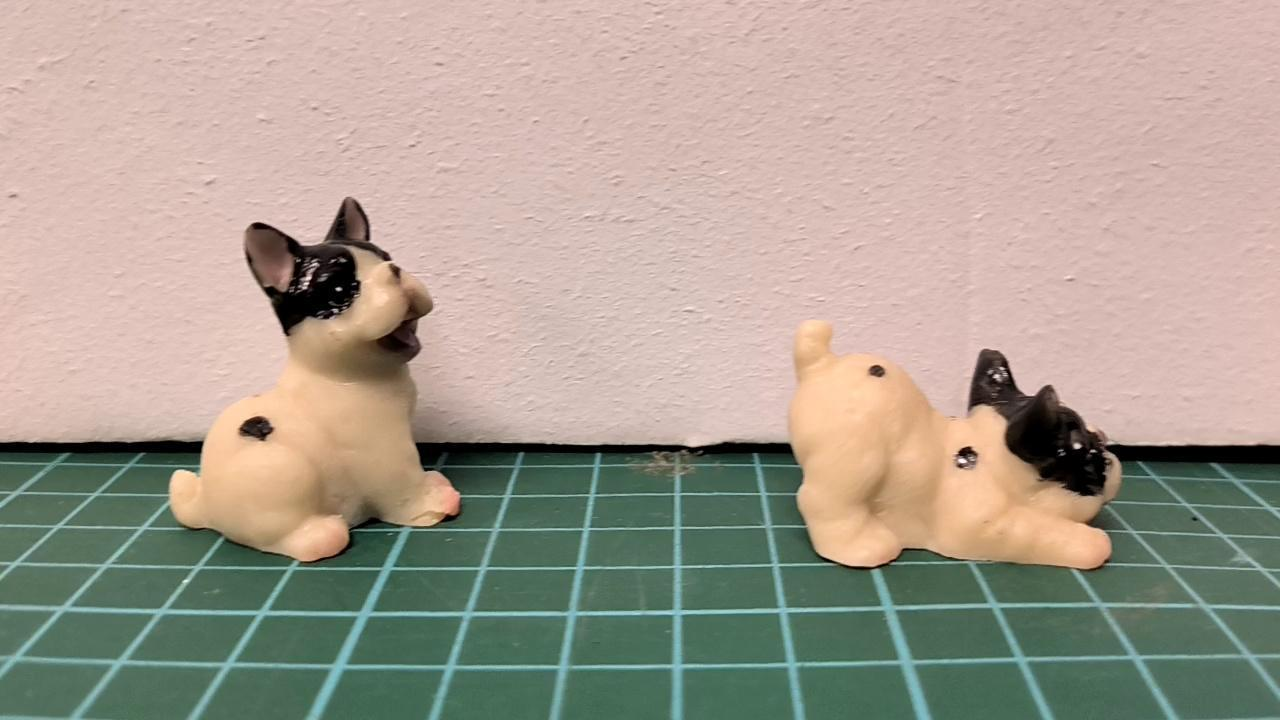pet: (168, 194, 461, 561), (791, 318, 1121, 570)
